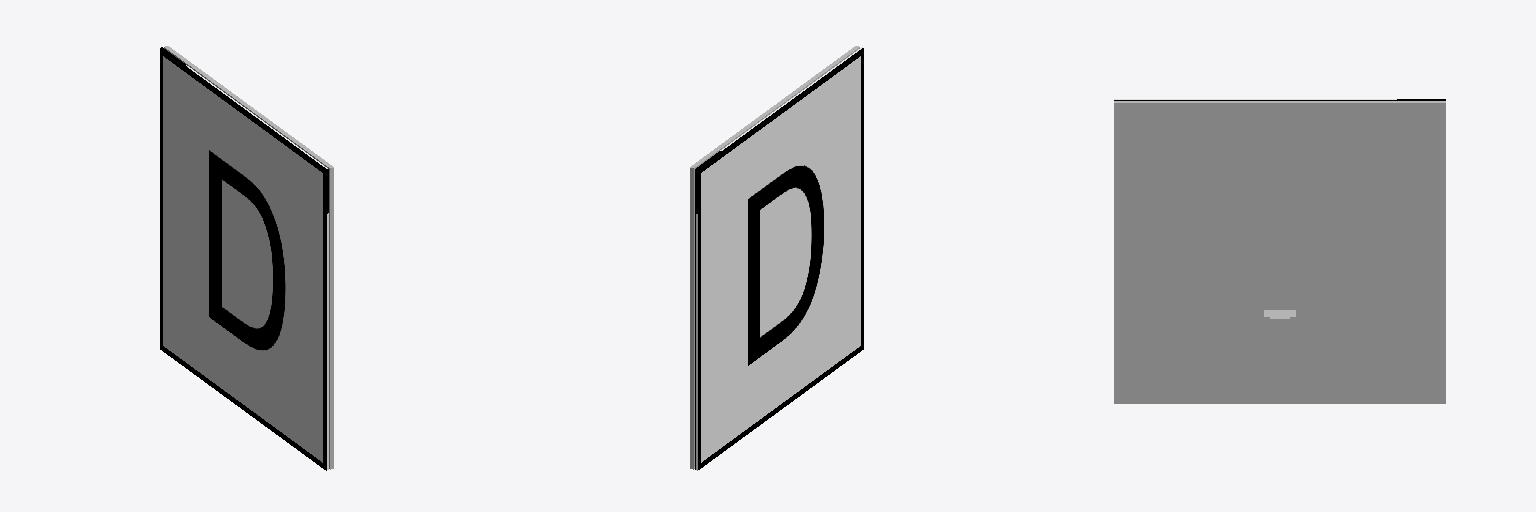
The picture shows the model from 3 angles: view 1: azimuth 30°, elevation 25°; view 2: azimuth 150°, elevation 25°; view 3: azimuth 270°, elevation 25°; orthographic projection.
Parts seen in each view (by area): view 1: cube; view 2: cube; view 3: cube.
Boxes of the visible parts, box(x1,y1,x2,y2) form: cube: box(160, 46, 333, 470); cube: box(690, 46, 863, 470); cube: box(1114, 99, 1445, 403).
Size of the model in its own units: 0.0922 by 1 by 1.
Materials: 2 (1 with a texture image).